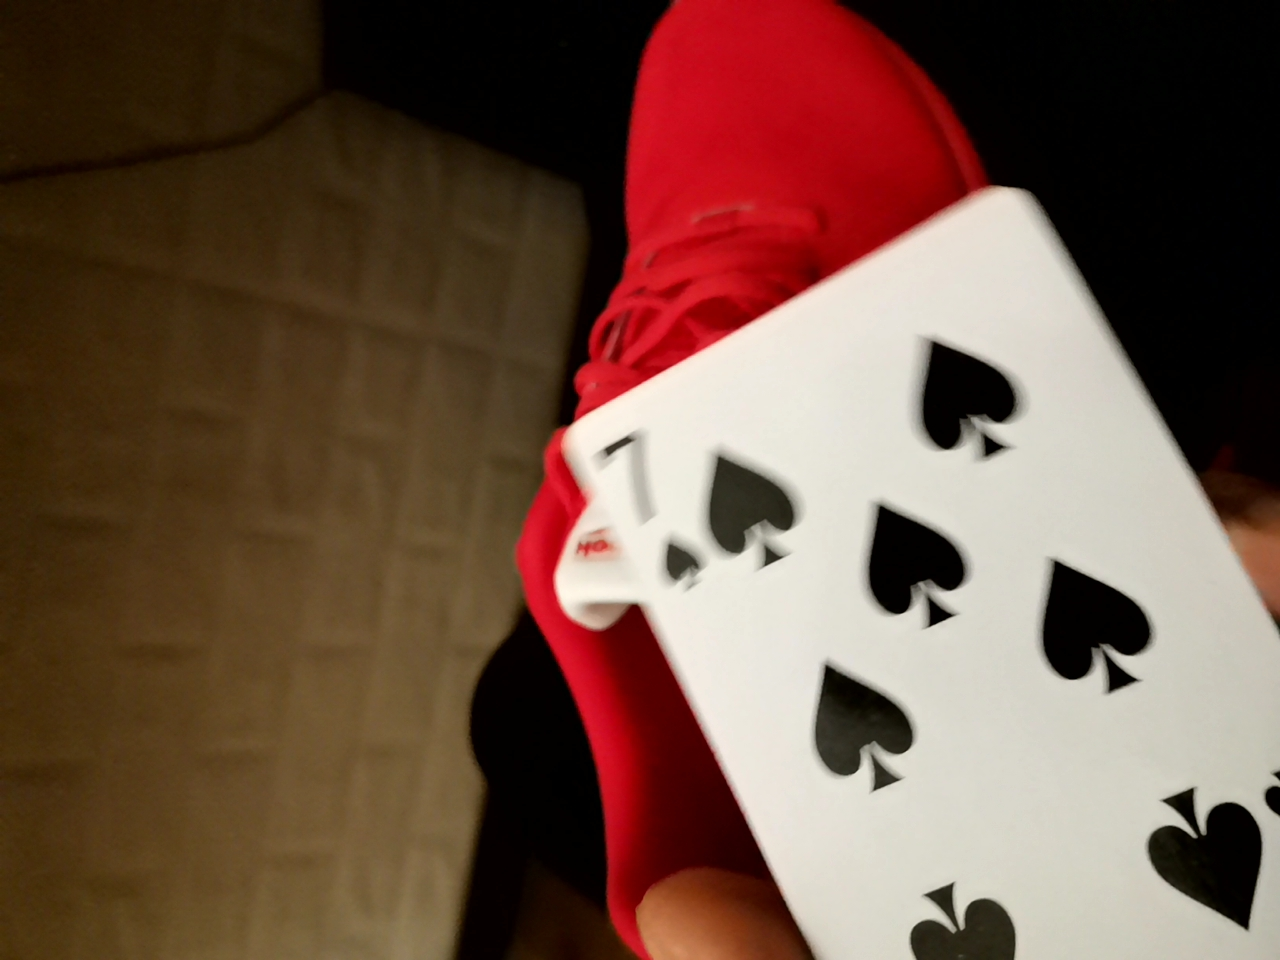ht 7: (492, 81, 1269, 934)
